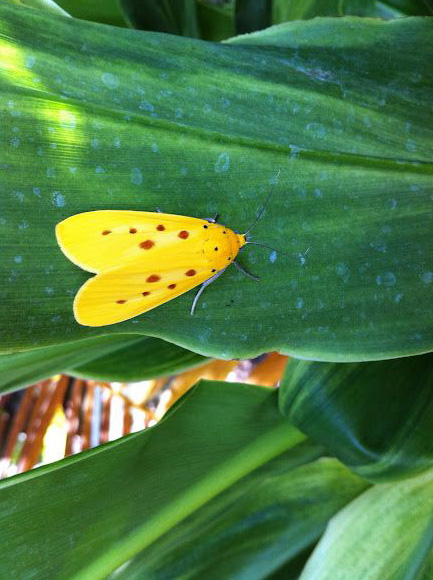Agape chloropyga: (52, 163, 292, 329)
moth: (52, 163, 292, 329)
